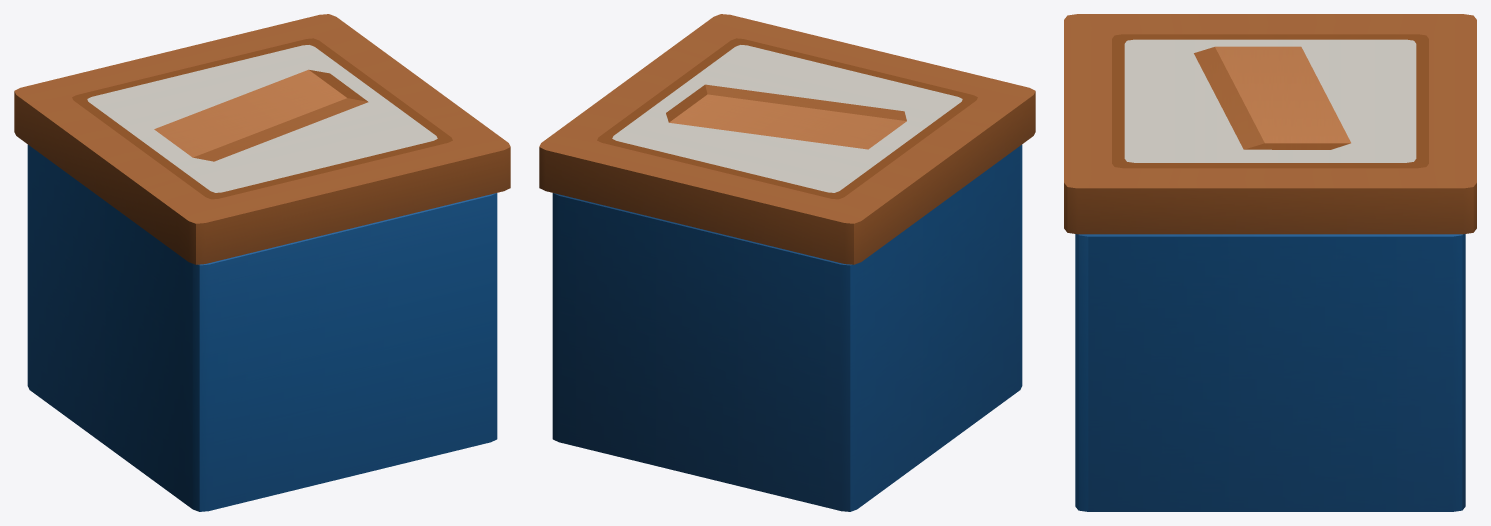
Rendered from ItemBoxC.FBX.
The picture shows the model from 3 angles, left to right: view 1: azimuth 30°, elevation 25°; view 2: azimuth 150°, elevation 25°; view 3: azimuth 270°, elevation 25°; orthographic projection. The views are drawn at different scales.
Parts seen in each view (by area): view 1: ItemBoxC; view 2: ItemBoxC; view 3: ItemBoxC.
Part boxes in pixels (x1,y1,x2,y2): ItemBoxC: (14,14,510,511); ItemBoxC: (539,14,1035,511); ItemBoxC: (1064,14,1476,511).
Size of the model in its own units: 0.9517 by 0.8422 by 0.9517.
